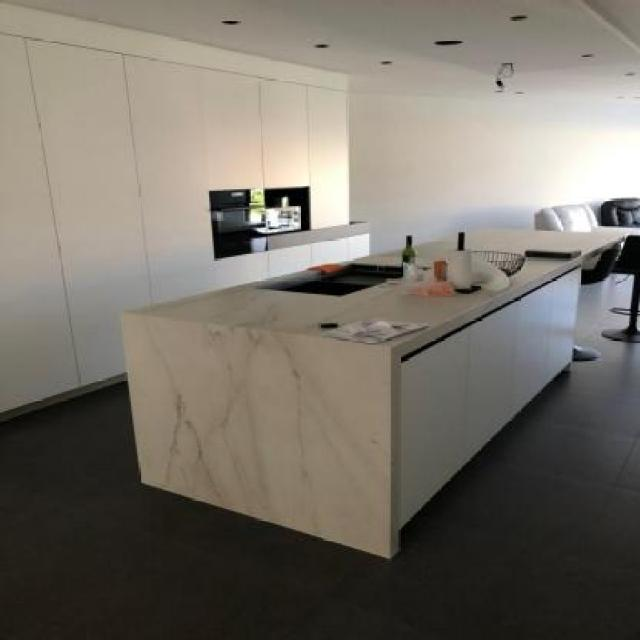Floor: (0, 272, 639, 640), (614, 310, 630, 314)
